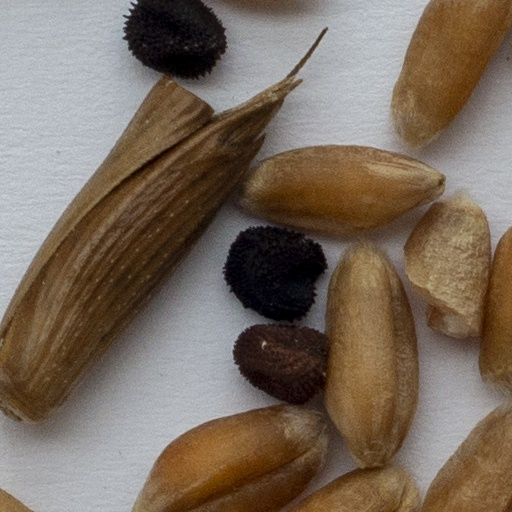Agrostemma-poly: (220, 221, 327, 323), (116, 0, 228, 80)
Peel-poly: (0, 82, 277, 421)
Wheat-grain-damaged-poly: (401, 192, 493, 344)
